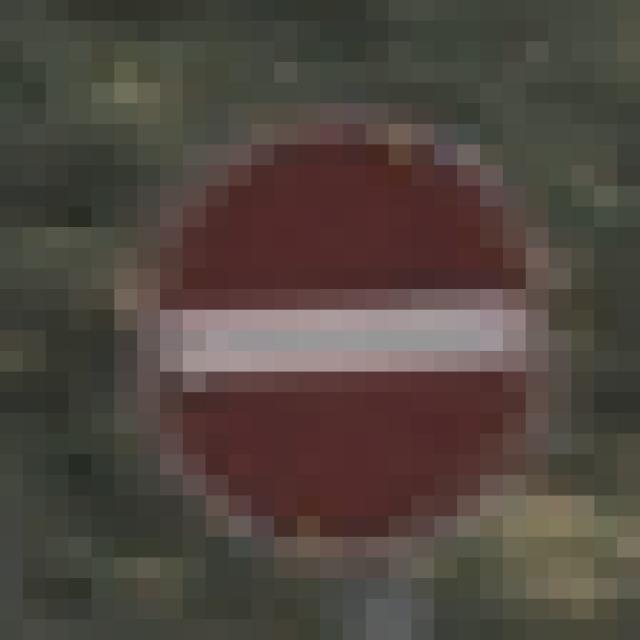No Entry: (138, 104, 527, 538)
